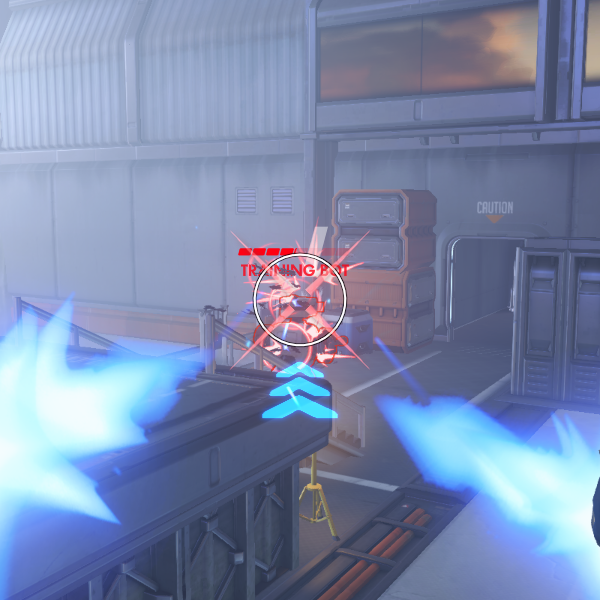hpbar: (238, 247, 352, 256)
